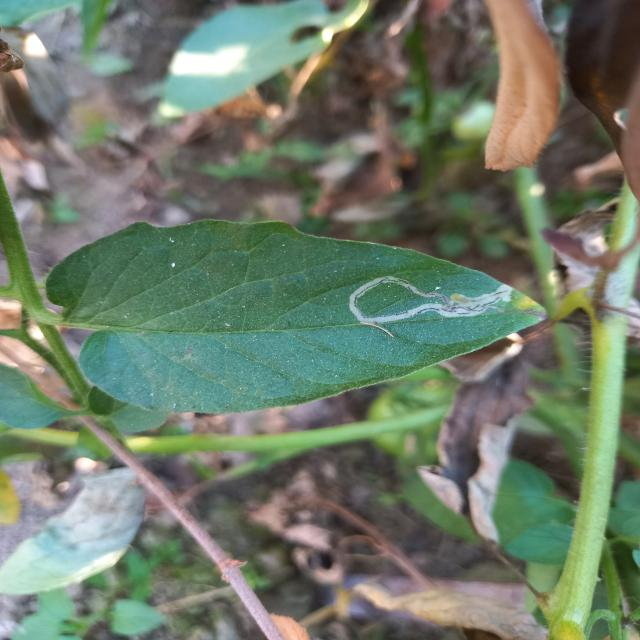Tuta absoluta: (348, 267, 515, 325)
